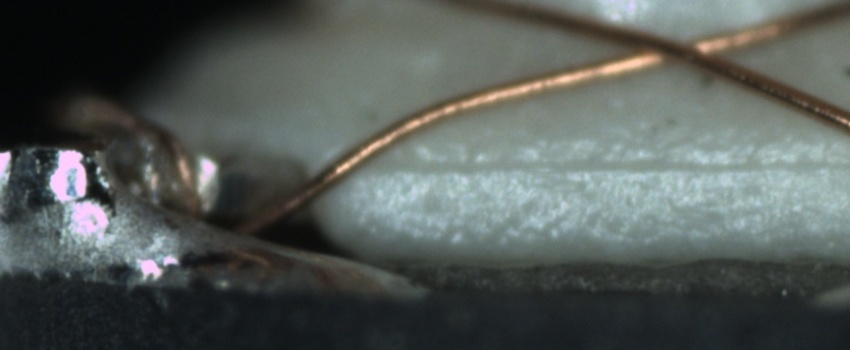CL: (598, 20, 748, 74)
DL: (391, 133, 850, 197)
TE: (54, 101, 204, 226)
